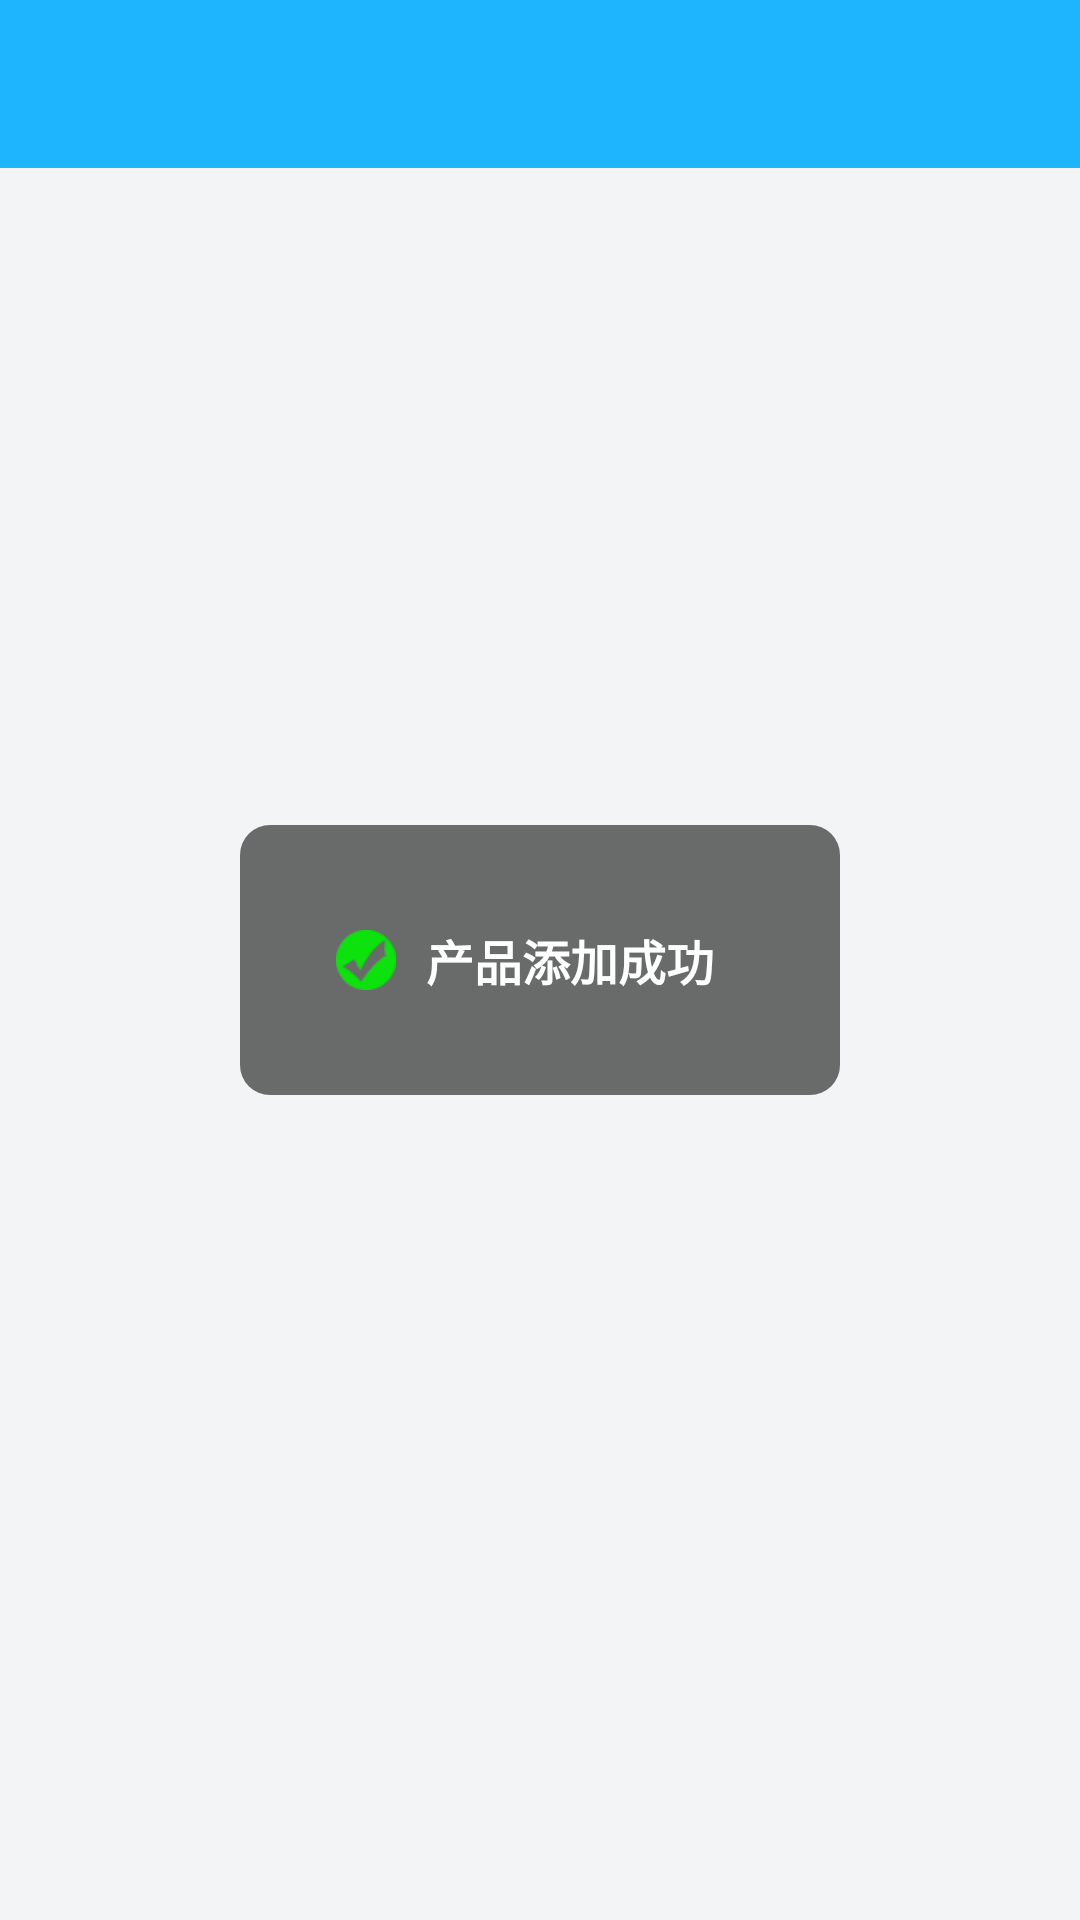

Where to tap for icons on this 1080x1920 app screen, as (x=x, y=y):
loadsuccess: (x=366, y=960)
